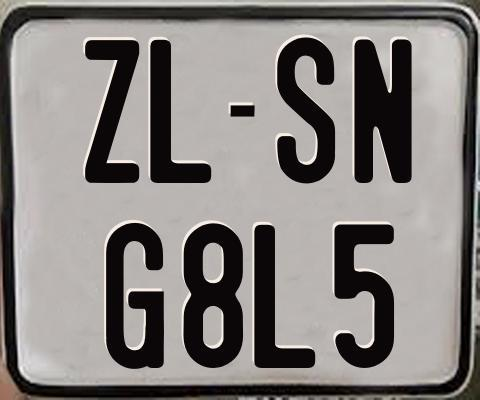5: (331, 224, 393, 368)
8: (180, 223, 242, 372)
G: (104, 220, 166, 369)
L: (150, 39, 217, 186), (252, 222, 316, 365)
N: (352, 37, 410, 186)
S: (277, 34, 339, 183)
Z: (84, 40, 144, 188)
